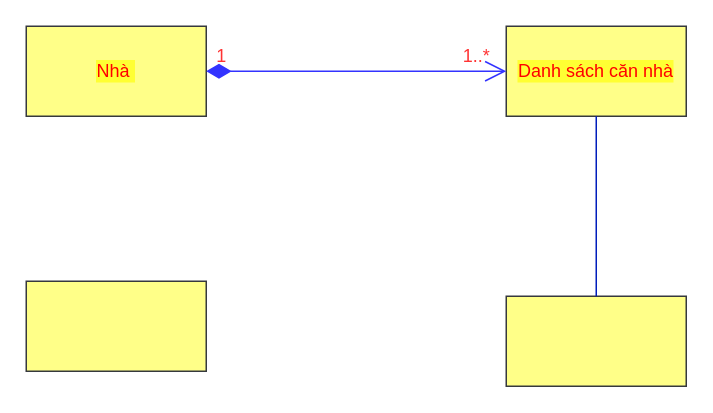
Image size: 713x413. Some labels were removed from this diagram. Here are the shapes that lost their labels. From the top down, the box of each, then its label:
(25, 280, 206, 371): Thông tin căn nhà
(505, 295, 686, 386): Datebase
